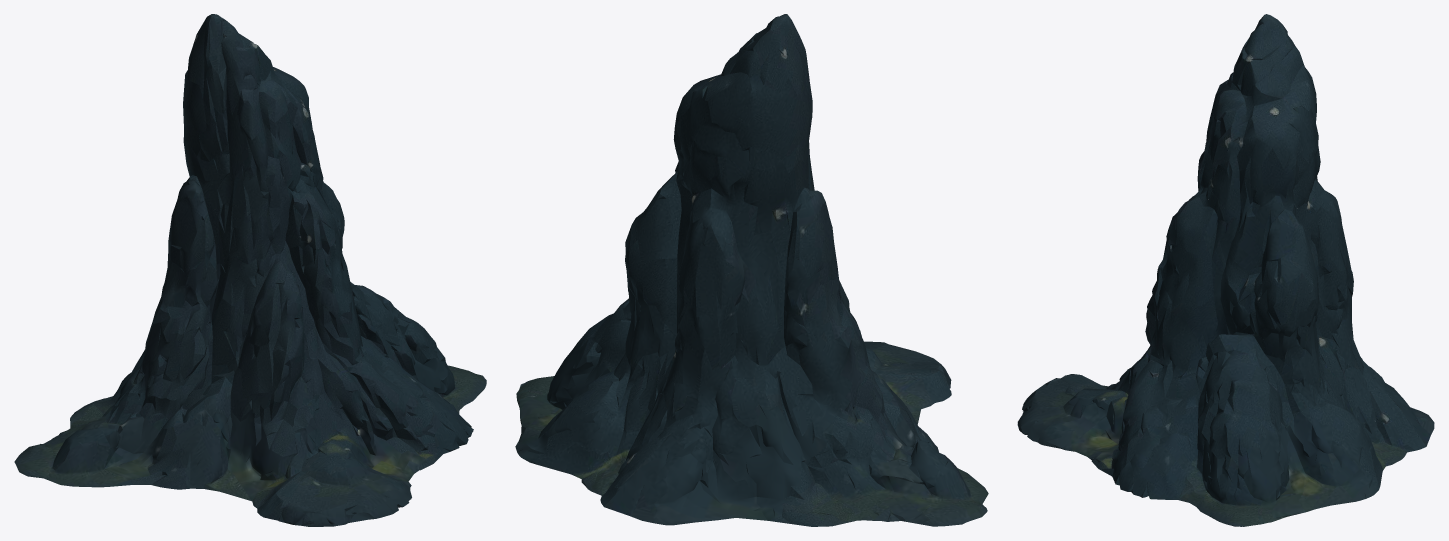
The model's file is sea_stack.glb.
3 renders of one model, left to right at view 1: azimuth 30°, elevation 25°; view 2: azimuth 150°, elevation 25°; view 3: azimuth 270°, elevation 25°, orthographic. The views are drawn at different scales.
Visible parts, largest first — view 1: Mesh_0; view 2: Mesh_0; view 3: Mesh_0.
Part boxes in pixels (x1=…): Mesh_0: x1=14, y1=14, x2=486, y2=526; Mesh_0: x1=515, y1=14, x2=988, y2=526; Mesh_0: x1=1017, y1=14, x2=1434, y2=526.
Bounding box in the file's own units: 10.1 × 9 × 8.64.
Materials: 1 (1 with a texture image).
